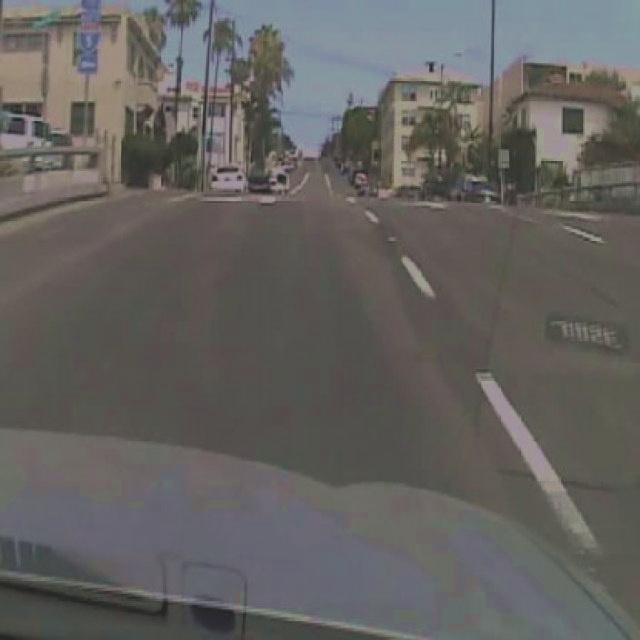speedLimitUrdbl: (497, 148, 510, 168)
